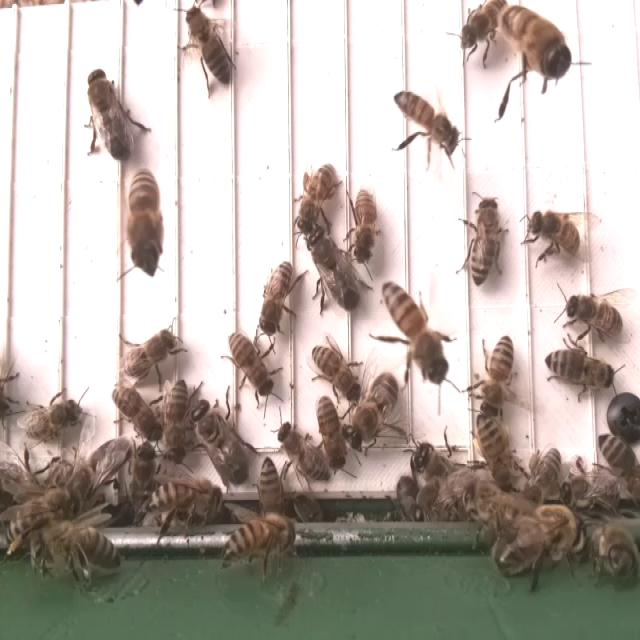Drone: (190, 397, 252, 490), (64, 436, 134, 514), (342, 367, 402, 451), (85, 64, 133, 166), (307, 226, 361, 314)
Worker: (382, 280, 446, 384), (393, 87, 459, 151), (184, 4, 234, 82), (294, 160, 338, 238), (127, 168, 160, 270), (147, 477, 227, 519), (229, 328, 277, 397), (544, 343, 616, 389), (115, 330, 180, 380), (223, 515, 295, 560), (566, 292, 627, 345), (274, 420, 327, 480), (258, 259, 298, 338), (309, 342, 363, 400), (526, 207, 589, 256), (475, 415, 514, 494), (468, 195, 501, 287), (113, 383, 159, 444), (481, 332, 515, 412), (23, 398, 82, 443), (458, 0, 511, 47), (316, 393, 347, 472), (352, 186, 380, 266), (166, 376, 192, 462), (257, 458, 287, 532)
